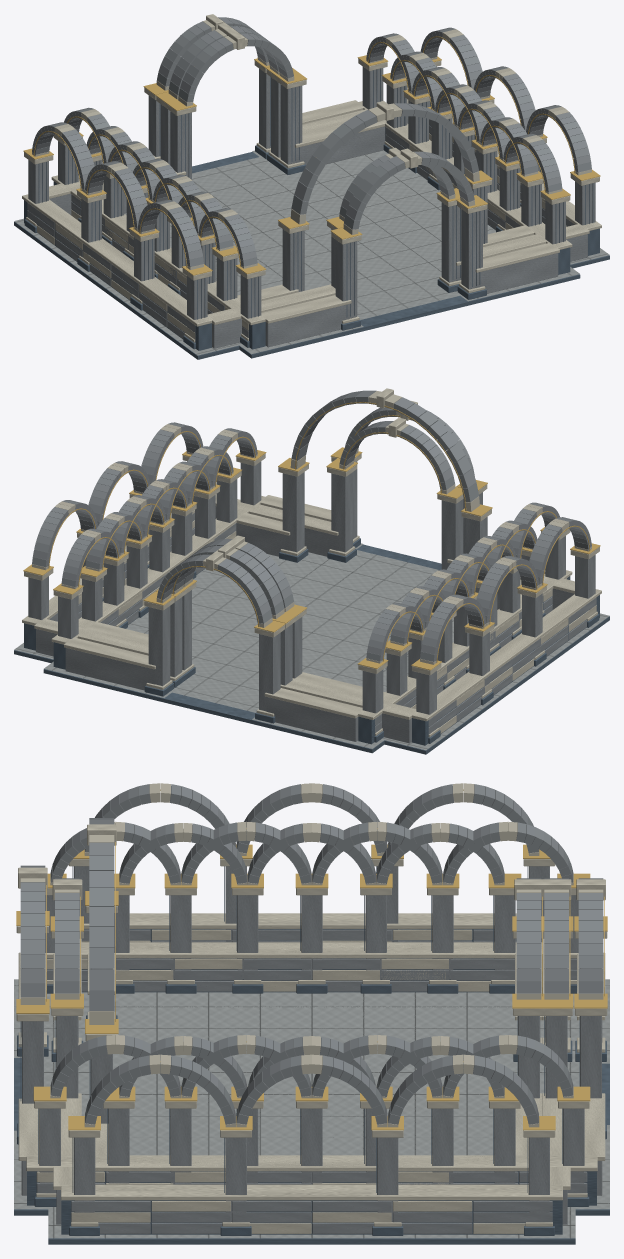
The model's file is moon-courts-v03.glb.
3 renders of one model, top to bottom at view 1: azimuth 30°, elevation 25°; view 2: azimuth 150°, elevation 25°; view 3: azimuth 270°, elevation 25°, orthographic. The views are drawn at different scales.
Parts seen in each view (by area): view 1: Coursed sill block.121, Coursed sill block.123, Coursed sill block.125, Planar paving.004, Coursed sill block.122, Coursed sill block.120, Coursed sill block.124, Planar paving.003, Planar paving.005, Grounded pier foot.038, Supported foundation.003, Grounded pier foot.039 (+5 smaller); view 2: Coursed sill block.121, Coursed sill block.123, Coursed sill block.125, Planar paving.004, Coursed sill block.122, Coursed sill block.120, Coursed sill block.124, Planar paving.003, Supported foundation.003, Capital brass lip.038, Capital brass lip.039, Capital brass lip.040 (+4 smaller); view 3: Coursed sill block.123, Planar paving.004, Coursed sill block.125, Coursed sill block.121, Coursed sill block.122, Coursed sill block.124, Coursed sill block.120, Planar paving.005, Planar paving.003, Grounded pier foot.039, Capital brass lip.038, Supported foundation.004 (+5 smaller).
Part boxes in pixels (x1,y1,x2,y2): Coursed sill block.121: (57, 17, 565, 347); Coursed sill block.123: (27, 26, 595, 348); Coursed sill block.125: (81, 33, 541, 314); Planar paving.004: (14, 150, 609, 355); Coursed sill block.122: (22, 23, 601, 342); Coursed sill block.120: (51, 14, 572, 340); Coursed sill block.124: (75, 30, 545, 312); Planar paving.003: (192, 150, 579, 354); Planar paving.005: (170, 150, 488, 293); Grounded pier foot.038: (53, 68, 570, 349); Supported foundation.003: (192, 152, 580, 358); Grounded pier foot.039: (24, 103, 599, 350); Coursed sill block.121: (58, 407, 565, 741); Coursed sill block.123: (28, 421, 596, 743); Coursed sill block.125: (82, 390, 542, 707); Planar paving.004: (14, 552, 609, 750); Coursed sill block.122: (22, 417, 601, 737); Coursed sill block.120: (51, 401, 572, 735); Coursed sill block.124: (78, 388, 548, 708); Planar paving.003: (44, 543, 438, 748); Supported foundation.003: (43, 544, 441, 753); Capital brass lip.038: (53, 415, 566, 668); Capital brass lip.039: (23, 431, 600, 670); Capital brass lip.040: (81, 402, 535, 651); Coursed sill block.123: (55, 784, 568, 1233); Planar paving.004: (48, 992, 575, 1238); Coursed sill block.125: (89, 818, 541, 1184); Coursed sill block.121: (20, 822, 603, 1195); Coursed sill block.122: (51, 783, 572, 1233); Coursed sill block.124: (85, 823, 544, 1184); Coursed sill block.120: (16, 821, 607, 1197); Planar paving.005: (83, 992, 545, 1148); Planar paving.003: (14, 979, 609, 1209); Grounded pier foot.039: (51, 866, 572, 1235); Capital brass lip.038: (16, 828, 607, 1101); Supported foundation.004: (48, 1238, 575, 1244).
Bounding box in the file's own units: 19.8 × 8.76 × 17.3.
5 materials, 4 textured.
